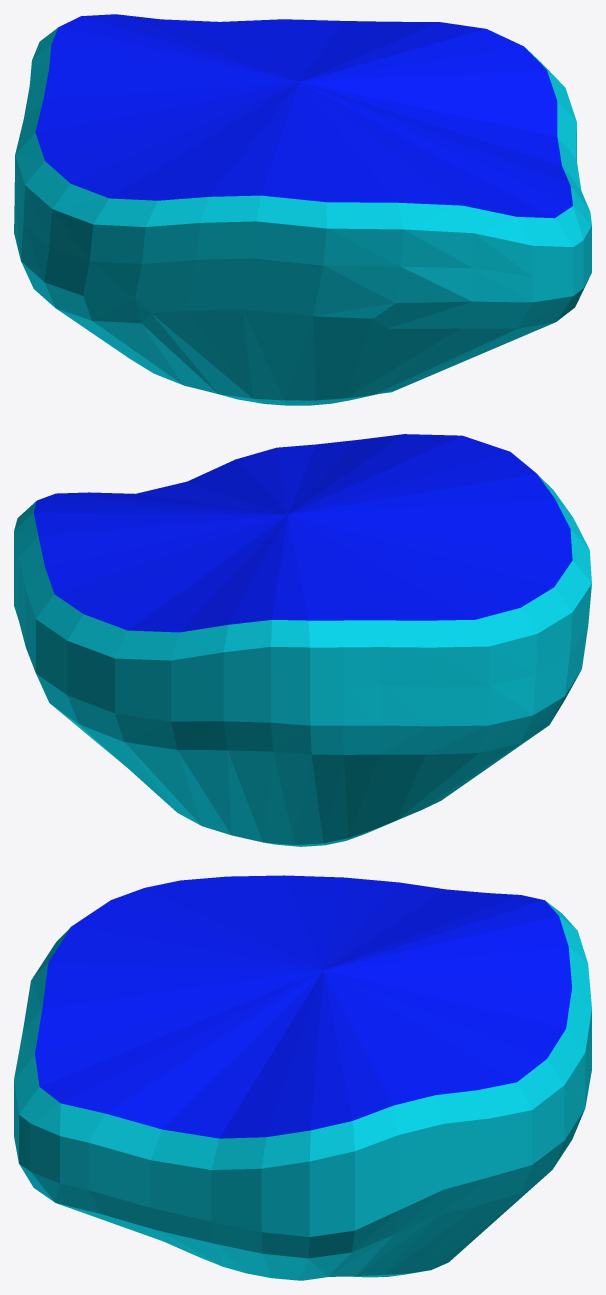
Rendered from meowrush_island.glb.
The picture shows the model from 3 angles, top to bottom: view 1: azimuth 30°, elevation 25°; view 2: azimuth 150°, elevation 25°; view 3: azimuth 270°, elevation 25°; orthographic projection.
Visible parts, largest first — view 1: Cylinder.006; view 2: Cylinder.006; view 3: Cylinder.006.
Part boxes in pixels (x1,y1,x2,y2): Cylinder.006: (14,14,591,405); Cylinder.006: (14,434,591,846); Cylinder.006: (14,875,591,1280).
Bounding box in the file's own units: 2.98 × 1.56 × 2.82.
